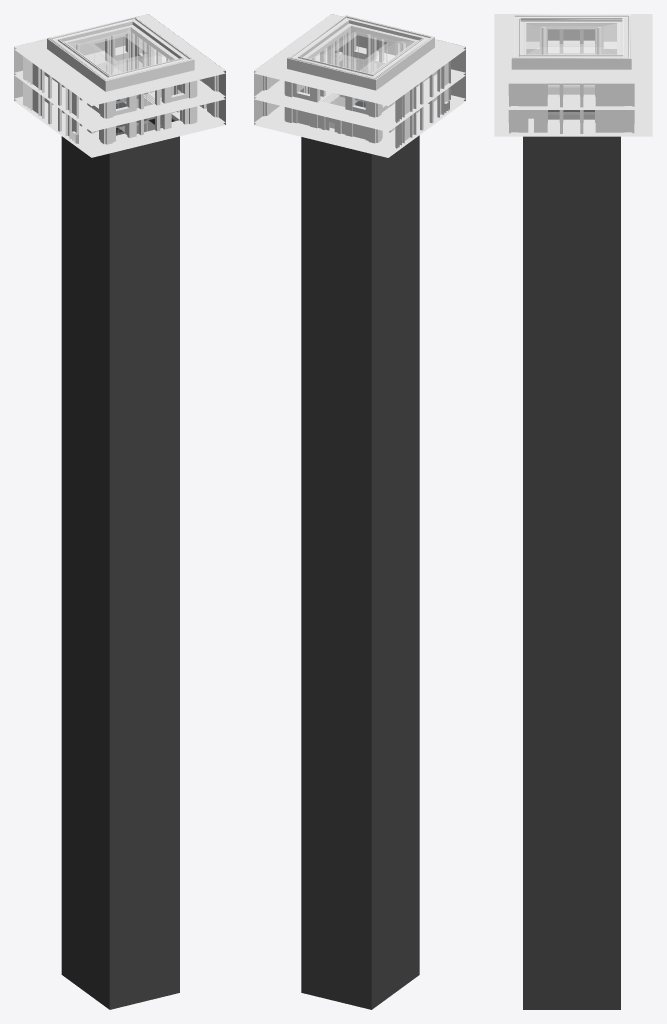
File: project14.glb
3 renders of one model, left to right at view 1: azimuth 30°, elevation 25°; view 2: azimuth 150°, elevation 25°; view 3: azimuth 270°, elevation 25°, orthographic. The views are drawn at different scales.
Visible parts, largest first — view 1: festék - titánfehér; view 2: festék - titánfehér; view 3: festék - titánfehér.
Part boxes in pixels (x1,y1,x2,y2): festék - titánfehér: (14,14,225,1009); festék - titánfehér: (254,14,465,1009); festék - titánfehér: (494,14,652,1009).
Size of the model in its own units: 32.86 by 219 by 32.86.
10 materials, 2 textured.
